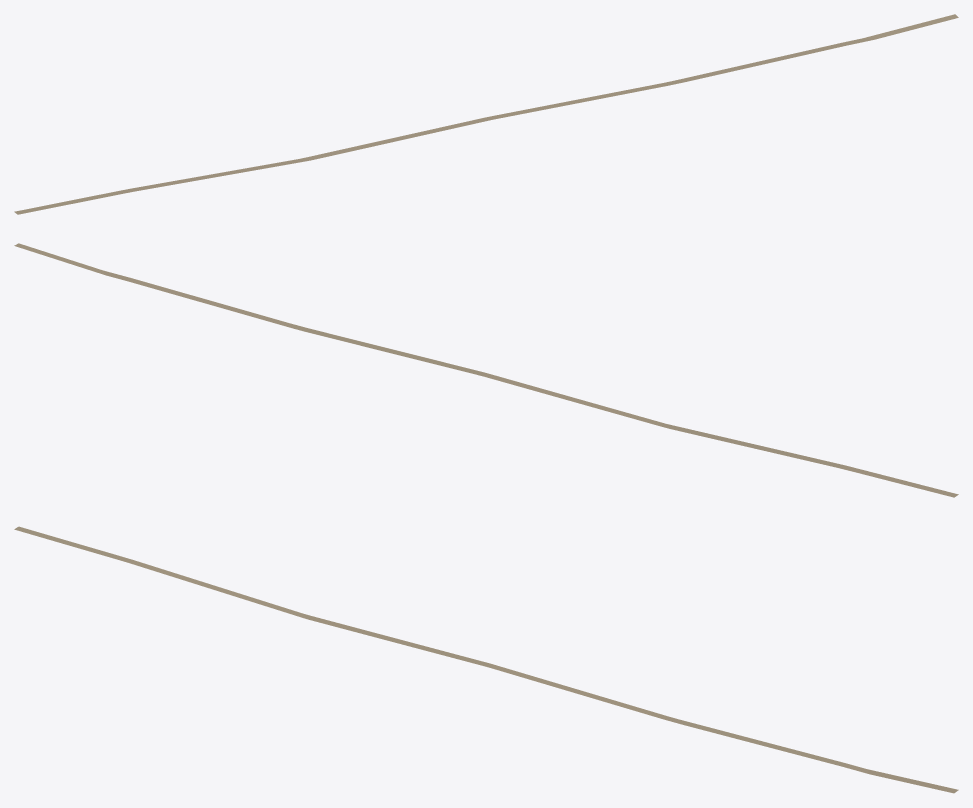
Rendered from farm_14_10_track.glb.
3 views of the same model, one above another, from view 1: azimuth 30°, elevation 25°; view 2: azimuth 150°, elevation 25°; view 3: azimuth 330°, elevation 25° (orthographic). The views are drawn at different scales.
Parts seen in each view (by area): view 1: geometry_0; view 2: geometry_0; view 3: geometry_0.
Part boxes in pixels (bbox=[...]): geometry_0: bbox=[14, 14, 958, 214]; geometry_0: bbox=[14, 243, 958, 497]; geometry_0: bbox=[14, 526, 958, 793].
Size of the model in its own units: 422 by 5.03 by 25.08.
